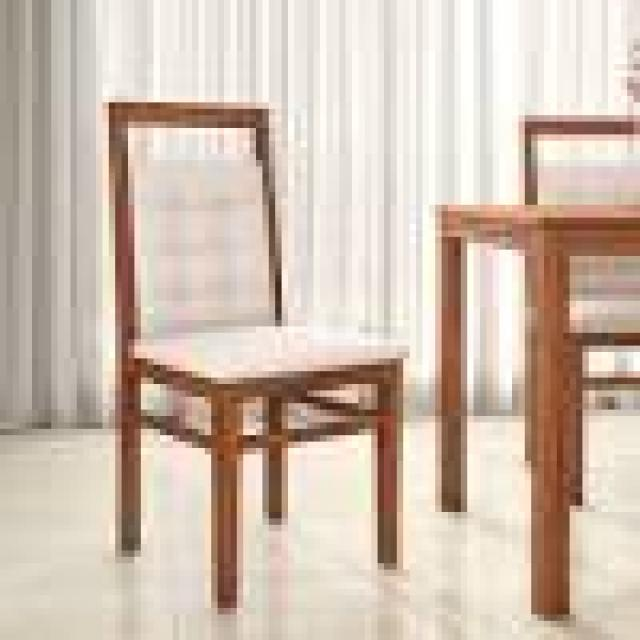chair: (54, 67, 424, 637), (445, 84, 640, 500)
